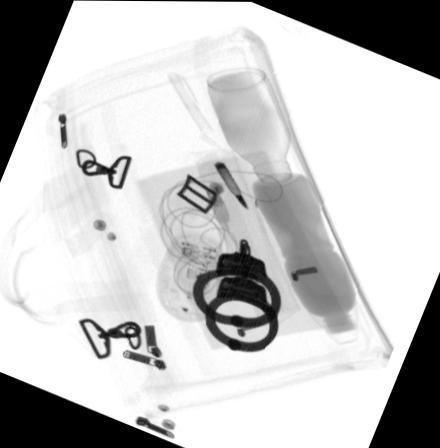Bullet: (214, 161, 248, 208)
HandCuffs: (192, 236, 282, 352)
